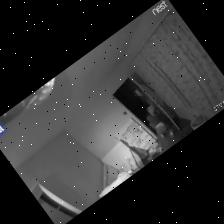person: (148, 115, 174, 138)
